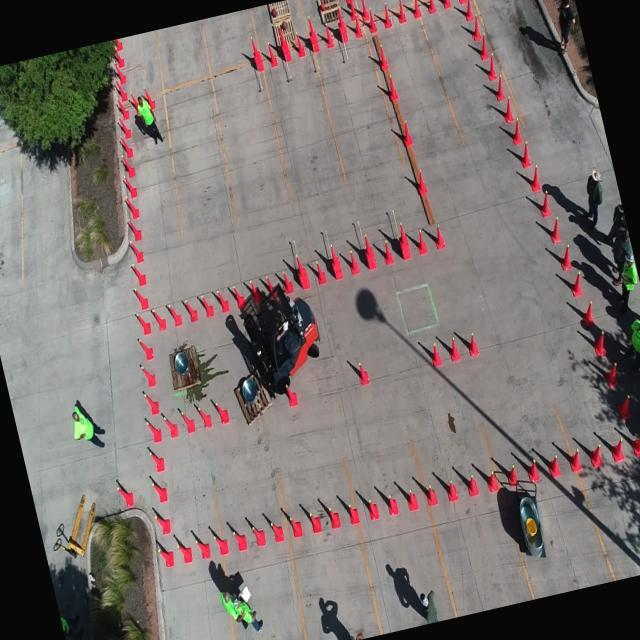driver: (269, 308, 292, 347)
forklift: (235, 276, 327, 391)
person: (548, 0, 582, 54), (69, 398, 102, 449), (220, 589, 254, 628), (581, 168, 609, 215), (136, 90, 160, 144), (613, 254, 640, 301), (418, 587, 442, 624), (623, 318, 640, 365)
